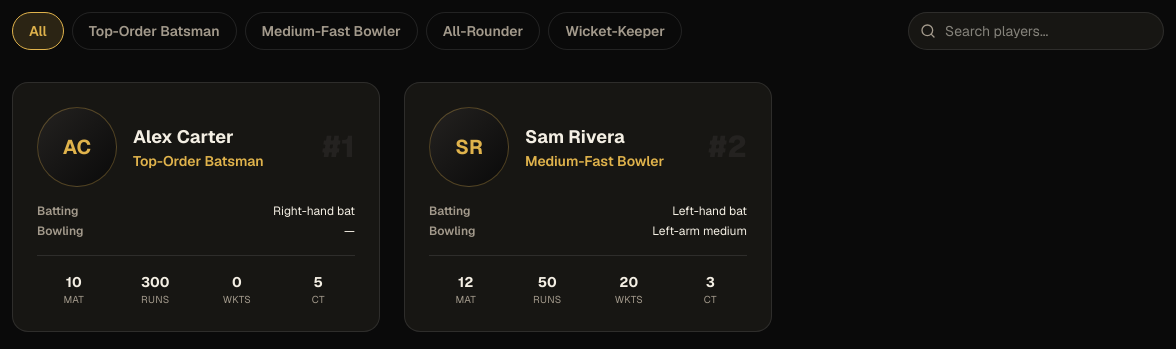
Test: SquadExplorer › shows an empty state when nothing matches
Type "nobody" into the search field with placeholder "Search players..." at (1036, 31), box [908,12,1164,50]
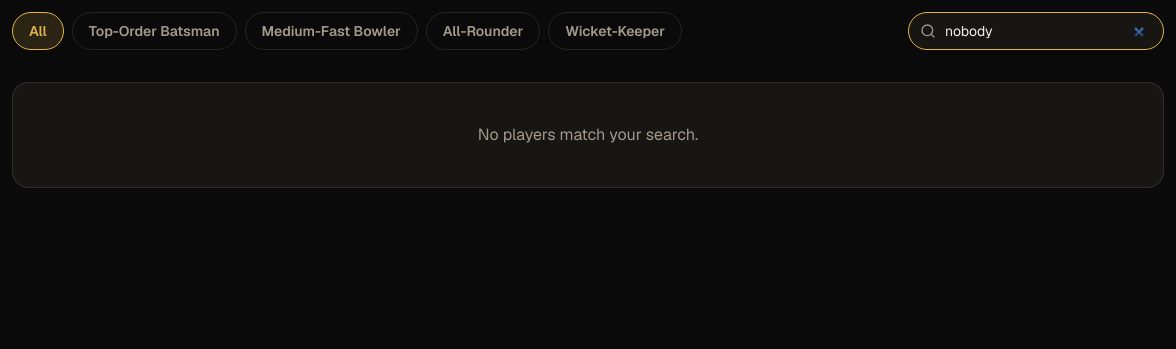
Result: the text "No players match your search." is shown at [12,82,1164,188]
